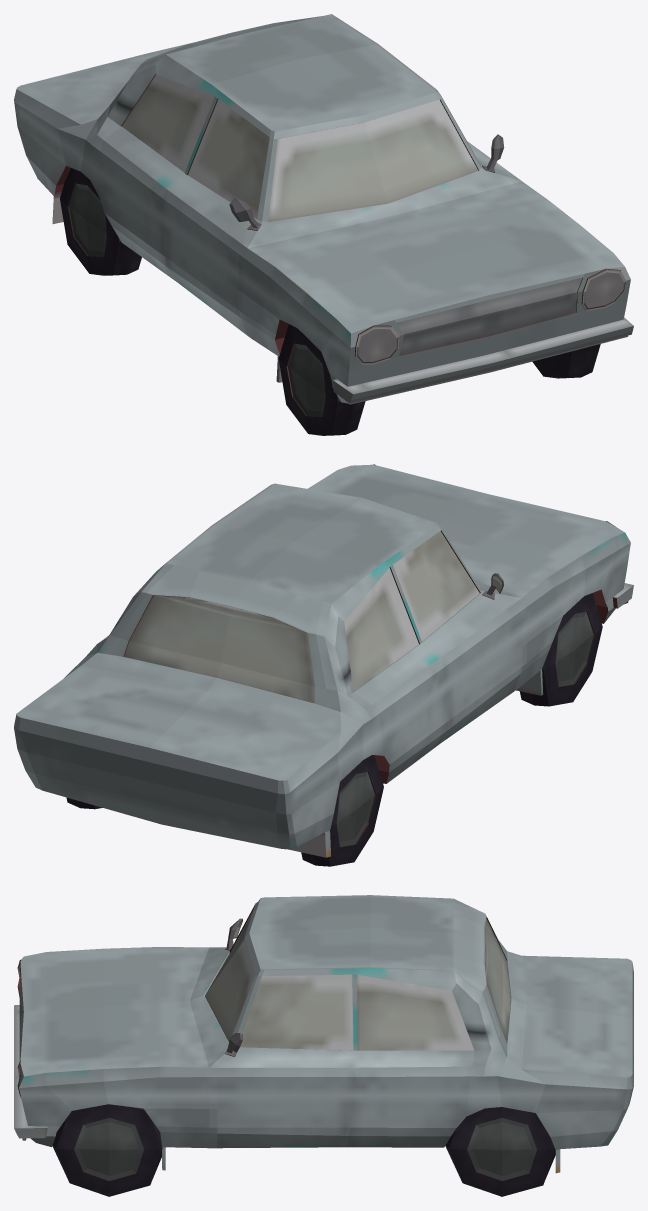
Rendered from Car5.fbx.
3 renders of one model, top to bottom at view 1: azimuth 30°, elevation 25°; view 2: azimuth 150°, elevation 25°; view 3: azimuth 270°, elevation 25°, orthographic. The views are drawn at different scales.
Parts seen in each view (by area): view 1: Car1.004; view 2: Car1.004; view 3: Car1.004.
Part boxes in pixels (x1=…): Car1.004: x1=14, y1=14, x2=633, y2=435; Car1.004: x1=14, y1=464, x2=633, y2=866; Car1.004: x1=14, y1=895, x2=633, y2=1196.
Bounding box in the file's own units: 206 × 166 × 430.
Materials: 1 (1 with a texture image).
